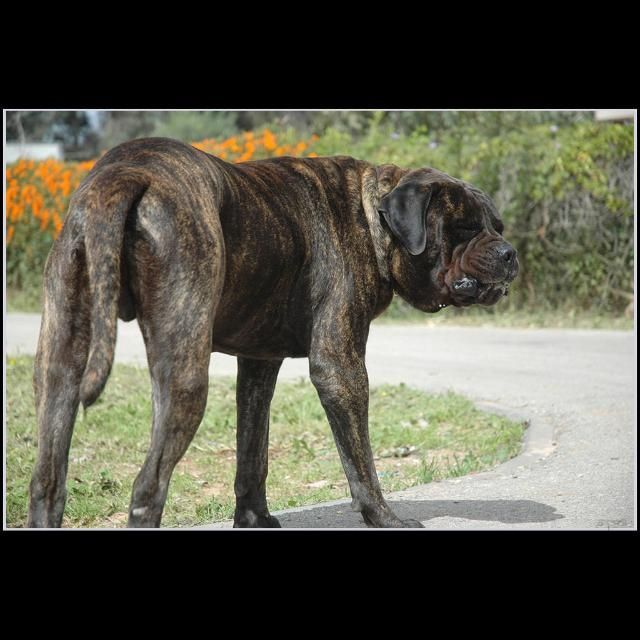Flower: (1, 178, 25, 246), (28, 195, 52, 231), (48, 171, 80, 195), (20, 168, 46, 196), (218, 136, 240, 160), (186, 138, 216, 154), (13, 157, 33, 180), (234, 140, 252, 162), (262, 128, 276, 150), (290, 143, 310, 157), (54, 212, 64, 238), (82, 160, 96, 172), (272, 149, 290, 155), (308, 149, 318, 159)
